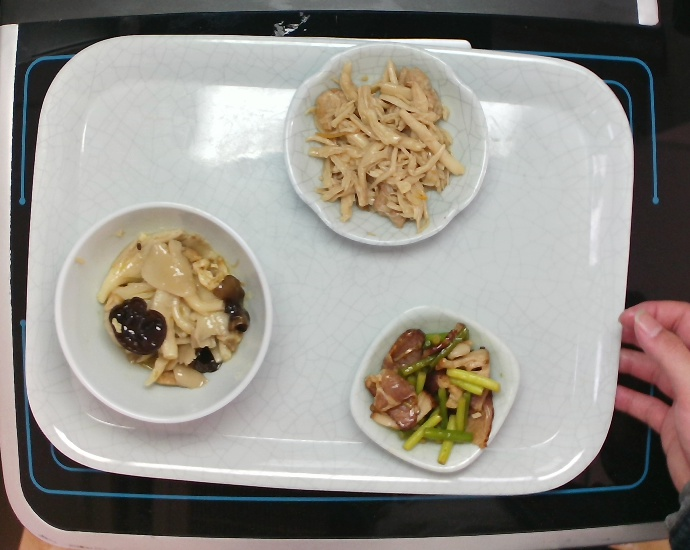JYsf-Ao_Yuan_Wan: (278, 38, 494, 249)
JYsf-Fan_Wan: (51, 199, 277, 427)
JYsf-Si_Fang_Die: (345, 302, 523, 479)
